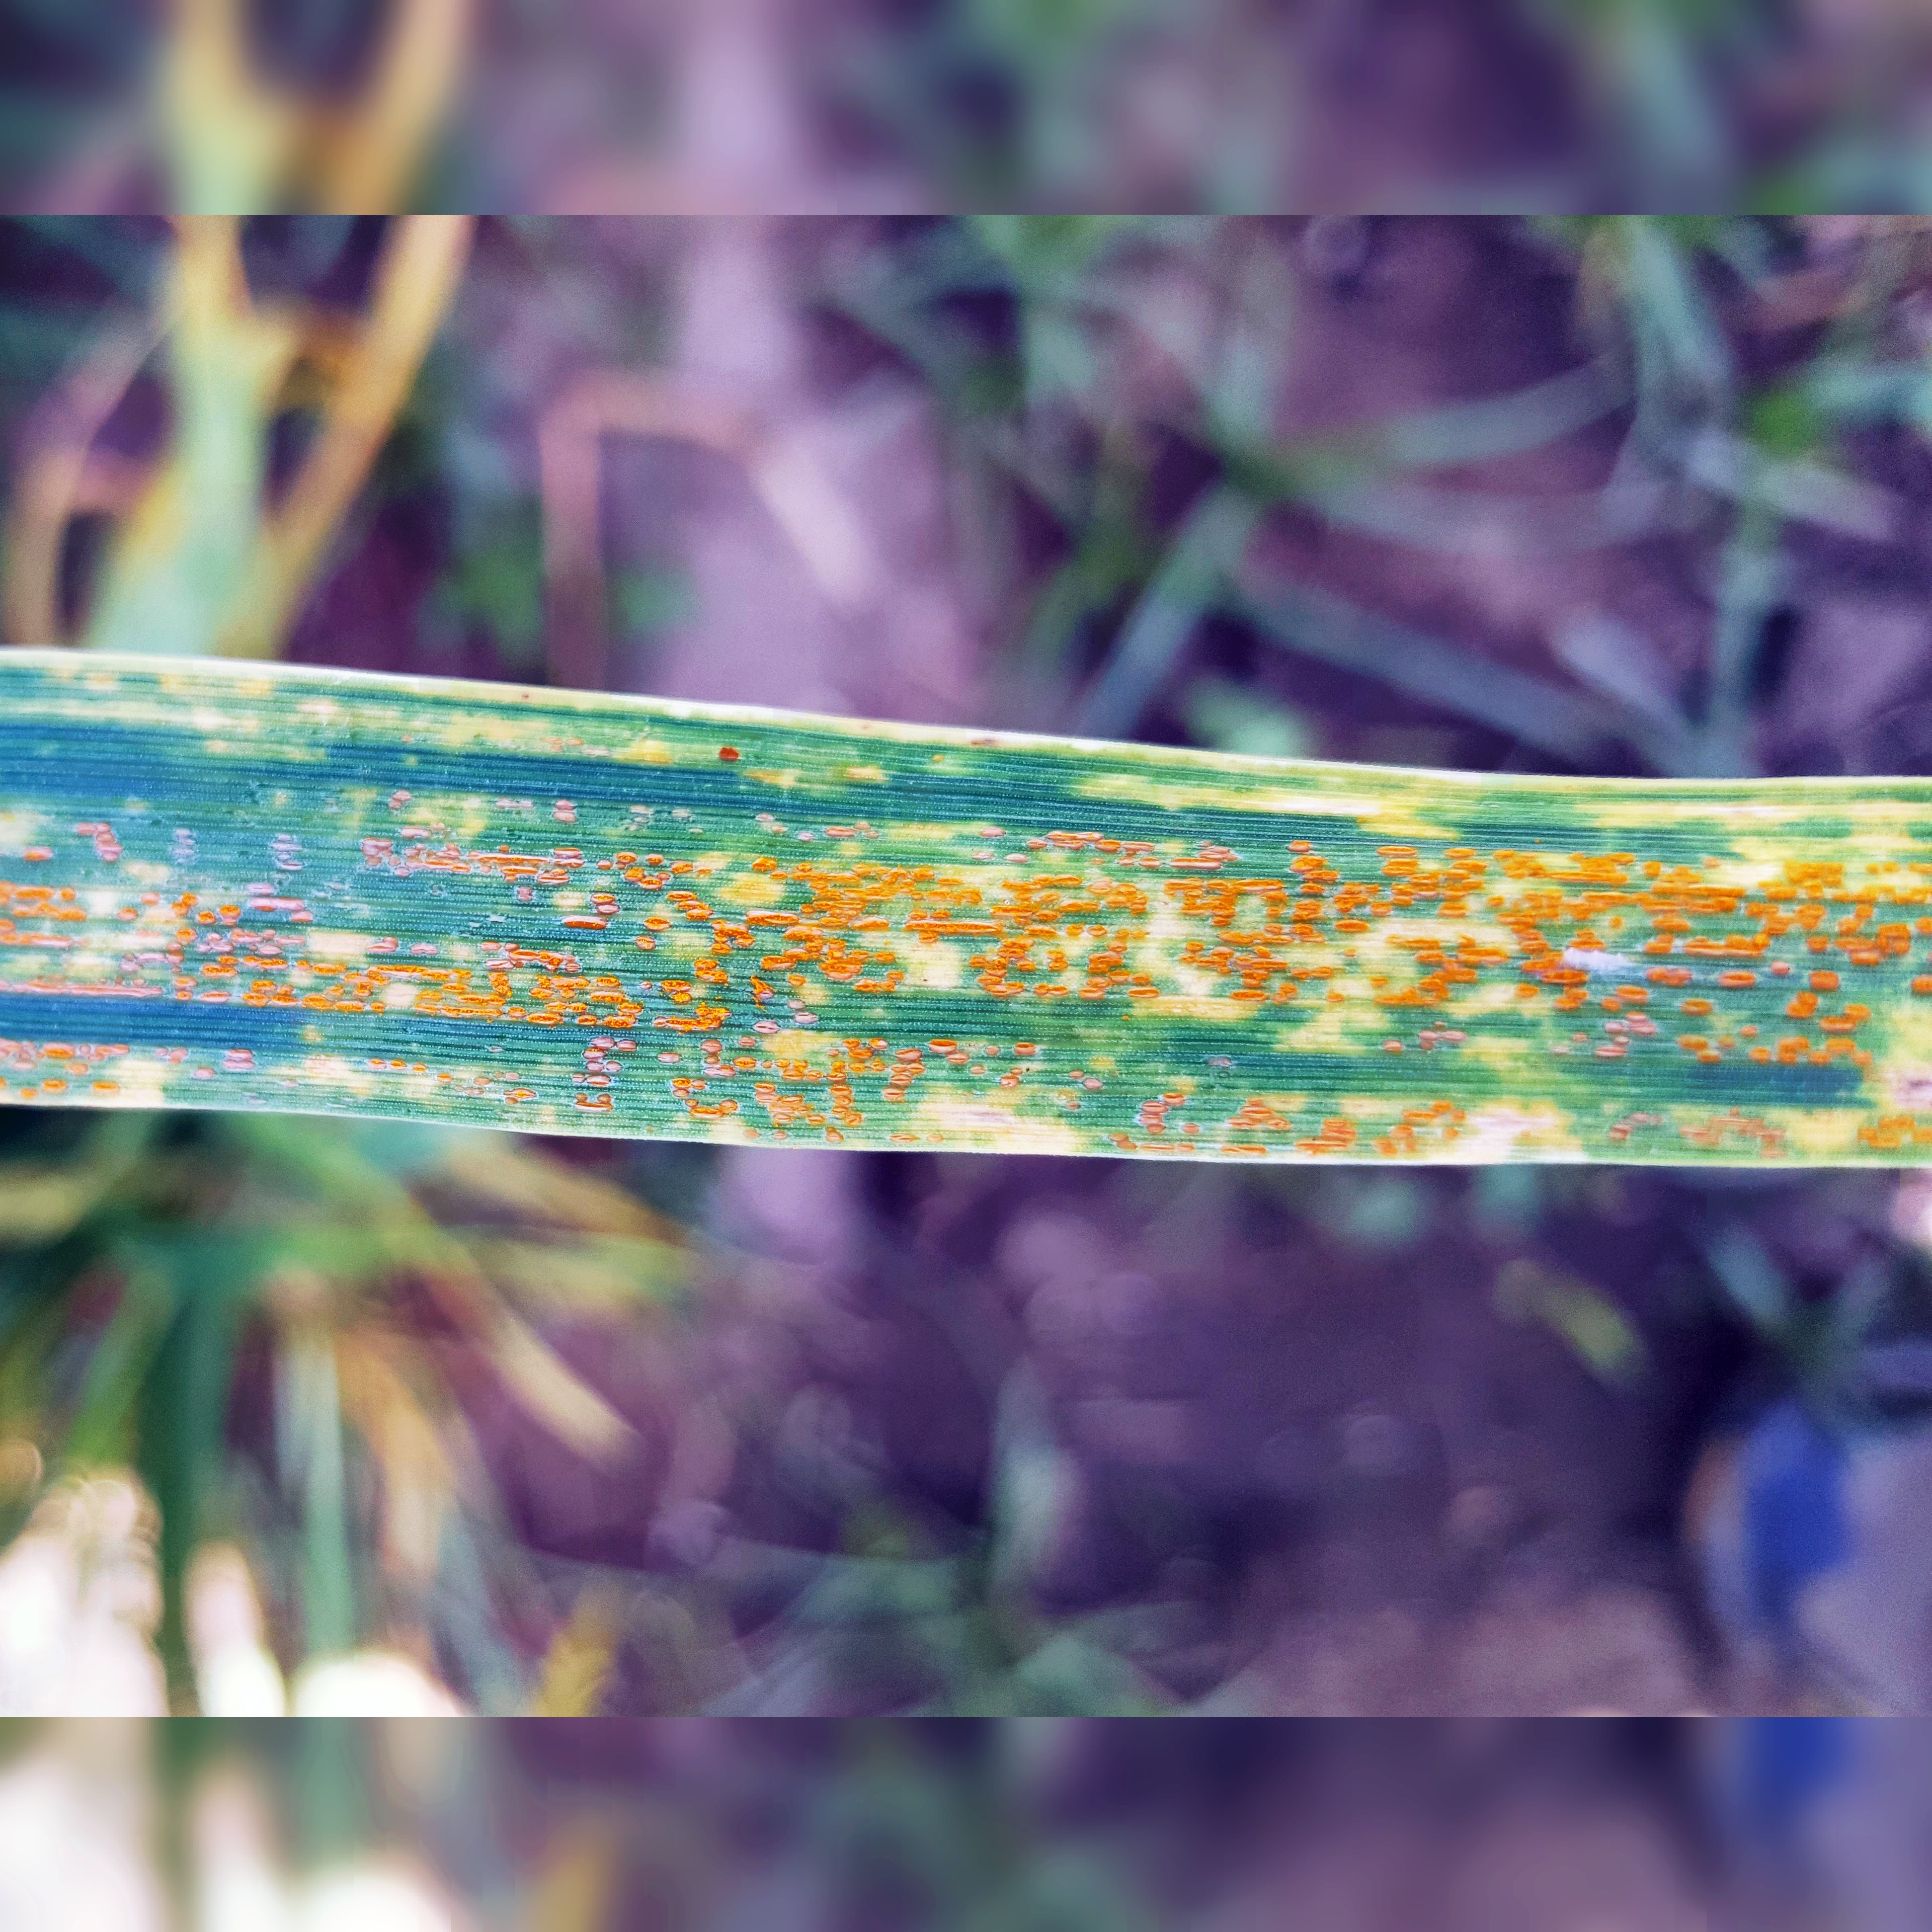Leaf Rust: (5, 658, 1909, 1221)
